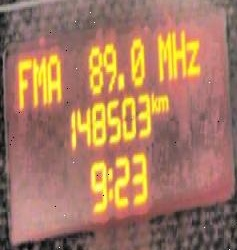-: (116, 70, 125, 91)
0: (129, 34, 145, 88), (121, 93, 136, 140)
1: (69, 107, 76, 150)
2: (112, 153, 129, 210)
3: (130, 150, 147, 207), (136, 91, 151, 138)
4: (76, 103, 91, 147)
5: (106, 96, 120, 145)
8: (87, 42, 102, 94), (91, 99, 106, 146)
9: (89, 158, 107, 213), (102, 39, 117, 94)
X: (157, 29, 173, 83), (31, 54, 47, 107), (16, 57, 31, 110), (46, 52, 61, 104), (171, 28, 186, 77), (185, 38, 201, 77), (106, 166, 113, 202), (157, 93, 168, 112), (150, 91, 157, 114)
